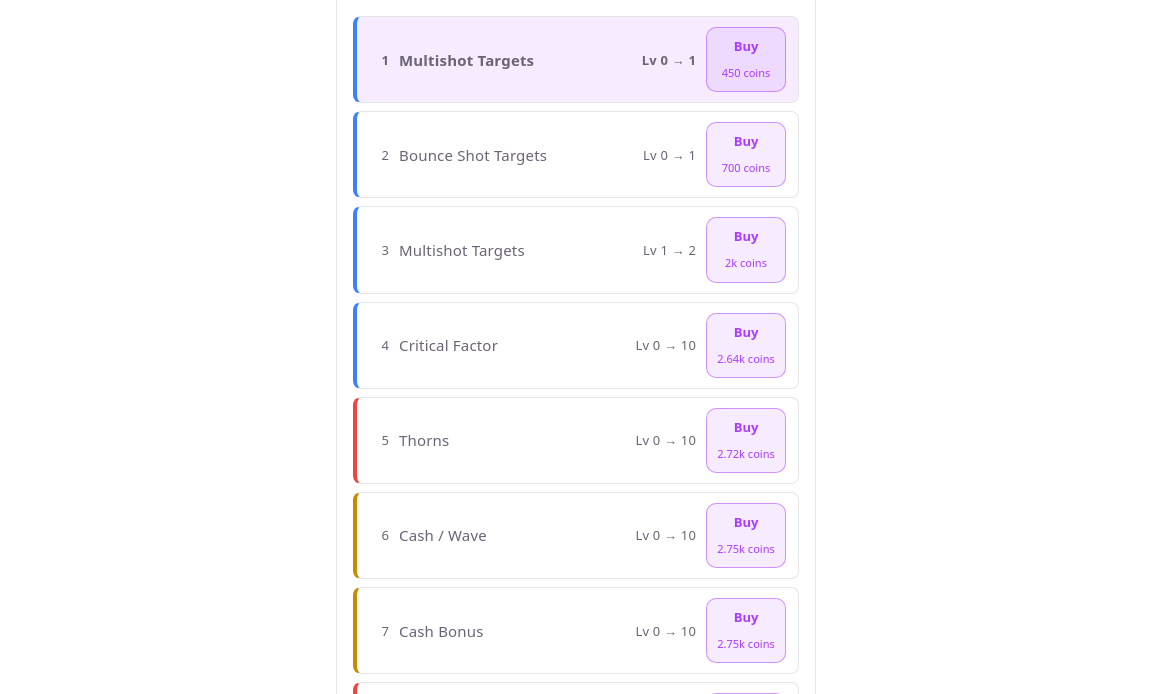
Test: UpgradePath › buying a later occurrence of a repeated upgrade (OQ-19 + confirmation) › asks for confirmation before buying a later occurrence
Click the button "Buy 2k coins" at (746, 250), box [706, 217, 786, 283]
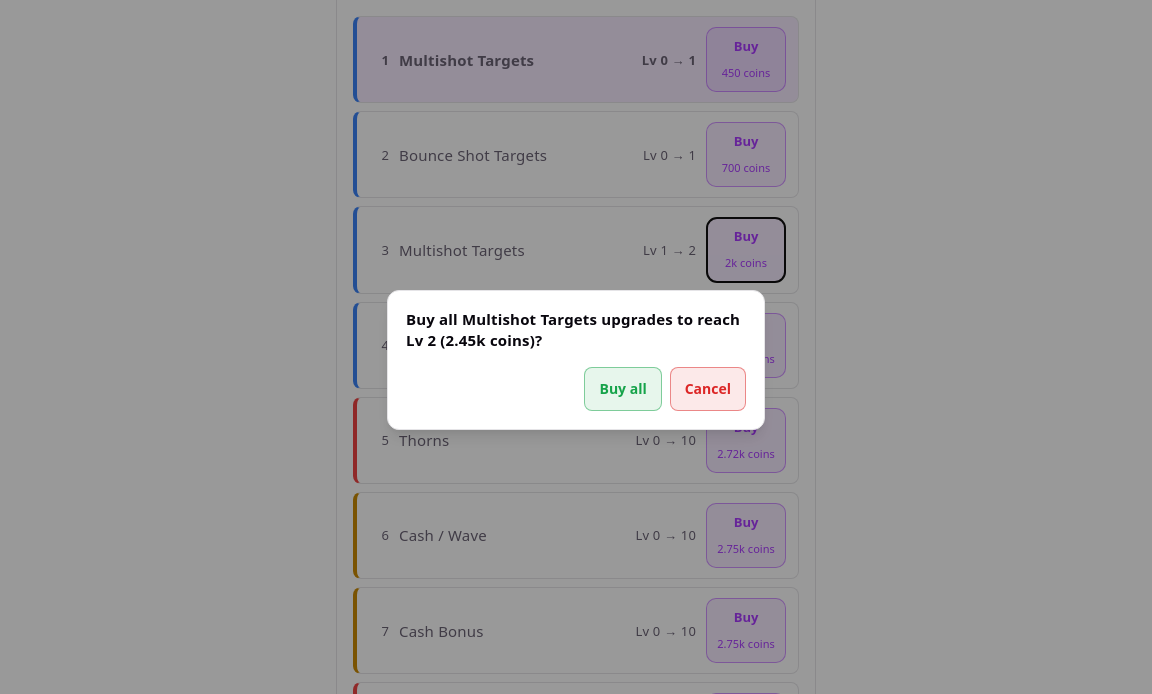
Expected: the dialog shows "Buy all Multishot Targets upgrades to reach Lv 2 (2.45k coins)?", [387, 290, 765, 430]
